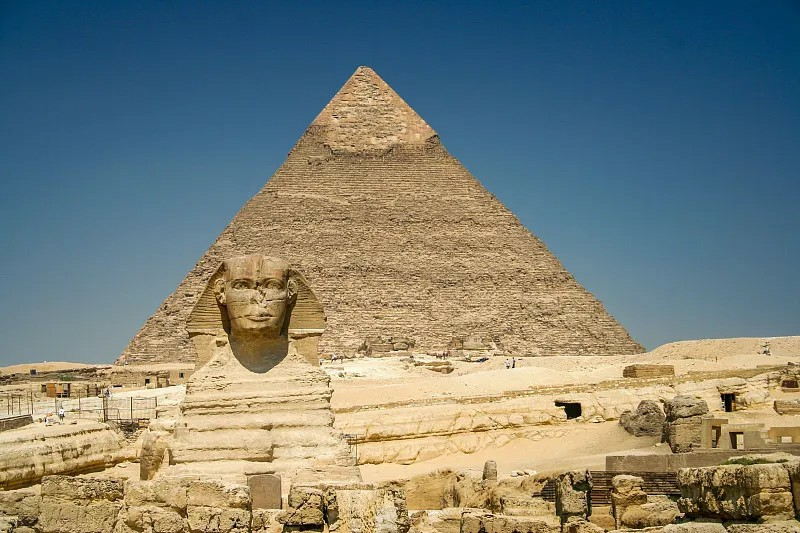Pyramid: (116, 64, 644, 353)
